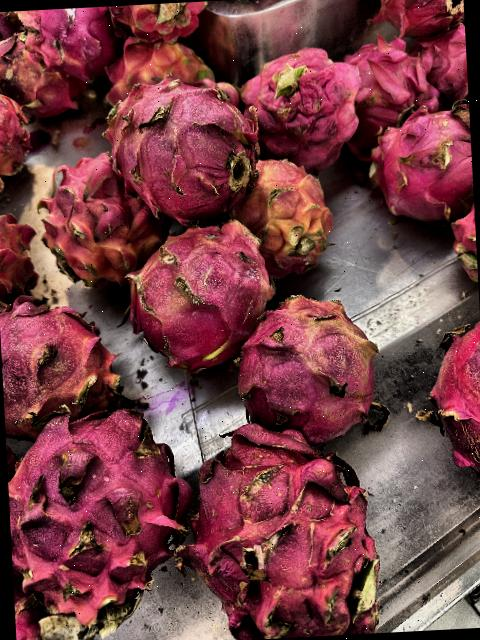buah-naga-belum-matang: (238, 292, 388, 432), (233, 156, 340, 276), (96, 35, 218, 99)
buah-naga-matang: (182, 412, 394, 640), (9, 400, 199, 640), (116, 216, 278, 356), (100, 82, 258, 215), (38, 150, 172, 288), (0, 283, 119, 426), (232, 48, 362, 163), (360, 110, 474, 212), (420, 309, 480, 484), (342, 36, 437, 124), (17, 7, 114, 79), (0, 31, 72, 120), (0, 80, 35, 199), (416, 28, 468, 108), (106, 2, 207, 42), (371, 0, 465, 36)
